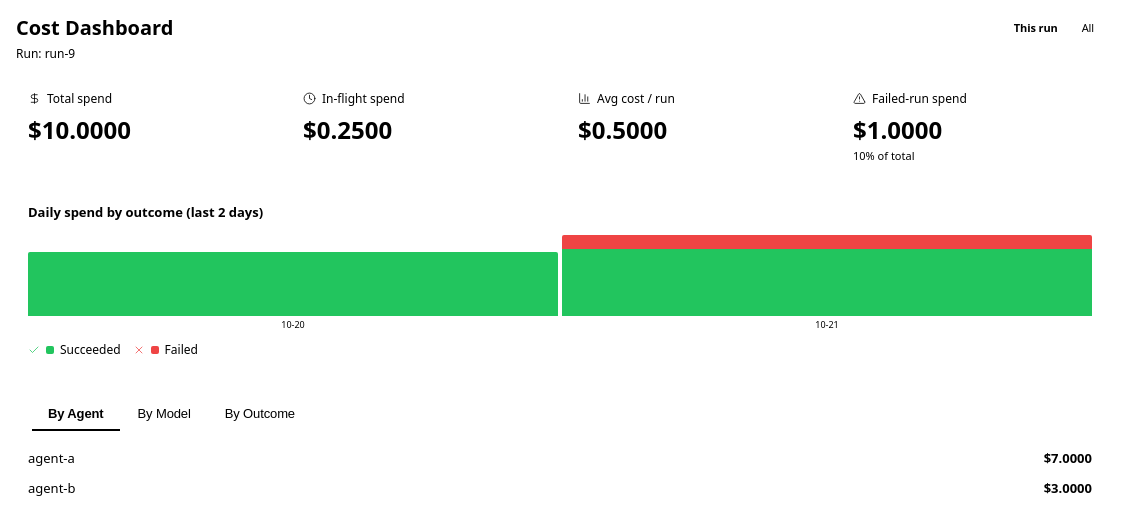
Test: CostDashboard › scopes to the selected run and toggles back to all
Expected: the text "Run: run-9" is shown, [16,45,75,62]
Click the button "All" at (1088, 28), box [1072,16,1104,39]
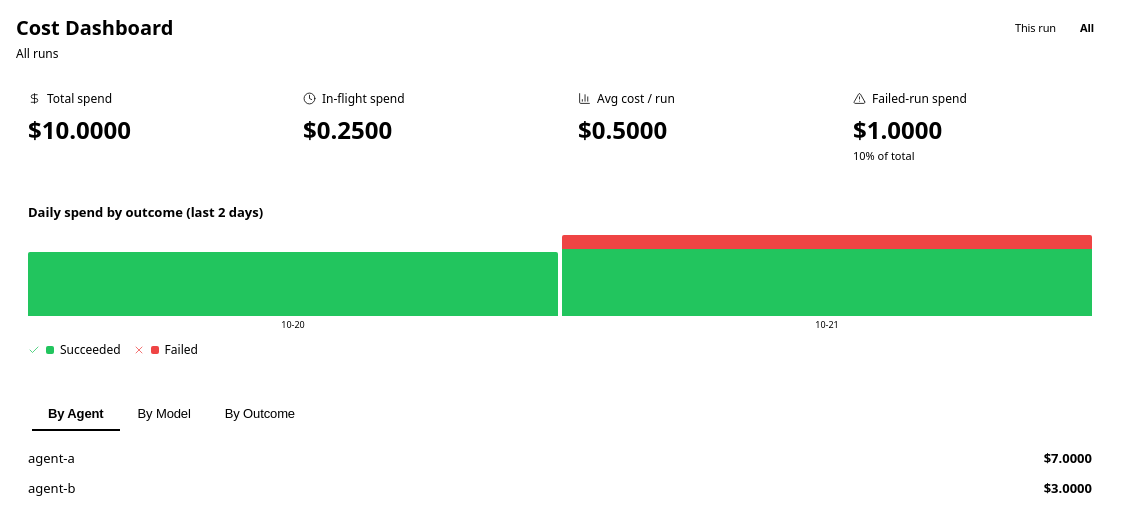
Now the text "All runs" is shown, box [16,45,58,62]
